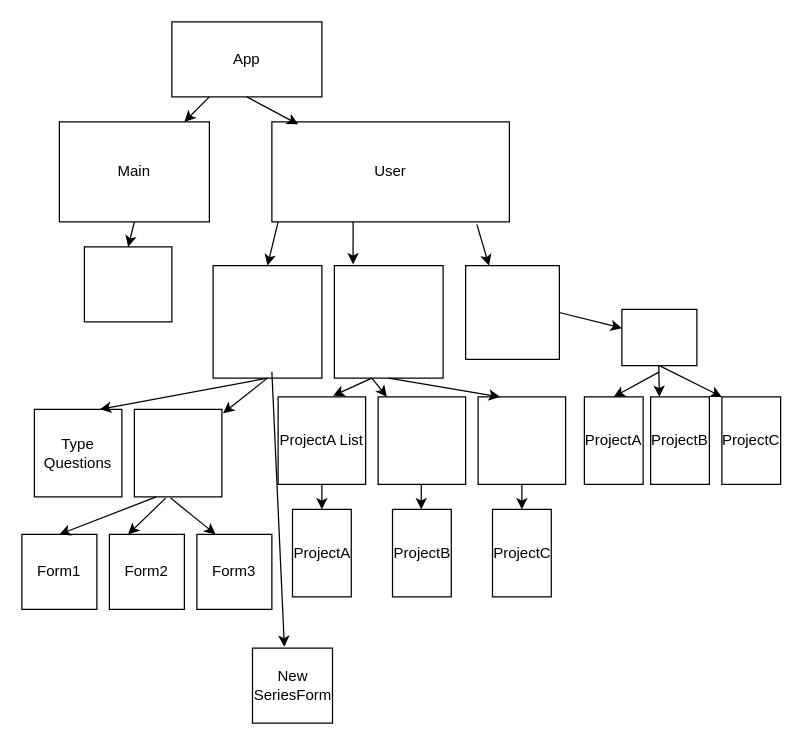
This 803x745 diagram has some shape labels left out. The shapes that lost their labels are listed below. From the top down, each one's box as (x1, y1, x2, y2) in pixels, then its label:
(83, 246, 172, 322): about
(212, 264, 322, 378): New Project Controll
(333, 264, 443, 378): ProjectType list
(464, 264, 559, 359): SeriesList
(621, 308, 697, 366): Series
(133, 408, 222, 497): NewProject Form
(377, 396, 466, 484): ProjectB List
(477, 396, 566, 484): ProjectCList
